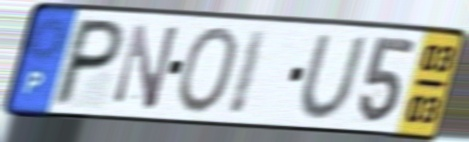5: (356, 32, 420, 127)
I: (224, 26, 272, 119)
N: (110, 21, 183, 113)
O: (174, 24, 241, 117)
P: (48, 15, 130, 109)
U: (297, 33, 371, 122)
